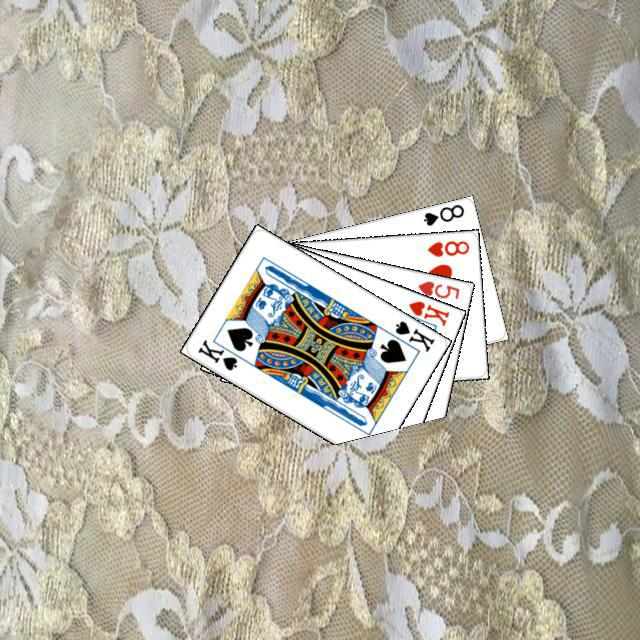5h: (413, 276, 461, 300)
8h: (423, 236, 471, 259)
8s: (418, 200, 466, 227)
Kh: (396, 296, 451, 331)
Ks: (193, 334, 247, 372), (390, 316, 436, 354)
